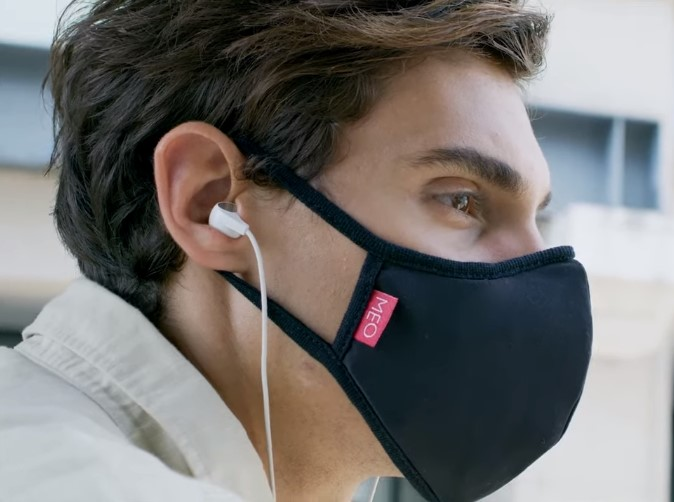face_with_mask: (127, 2, 604, 502)
